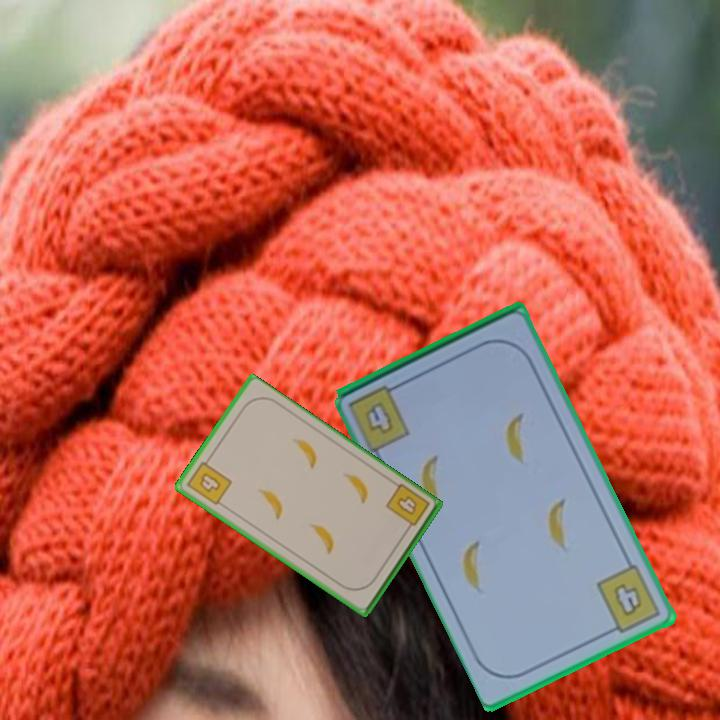4b: (593, 561, 664, 638), (183, 453, 235, 508), (382, 480, 433, 536), (361, 398, 397, 438)
